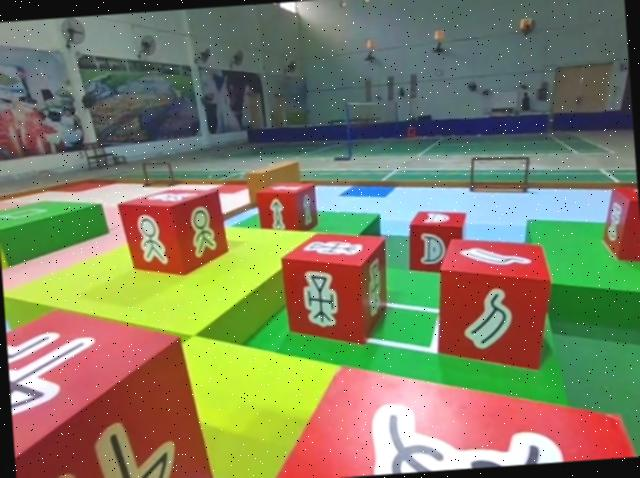R2 Real: (242, 339, 640, 478), (4, 289, 216, 478), (431, 226, 558, 379), (275, 221, 397, 353), (117, 181, 231, 282), (405, 201, 470, 281), (594, 181, 640, 269), (257, 179, 322, 237)
